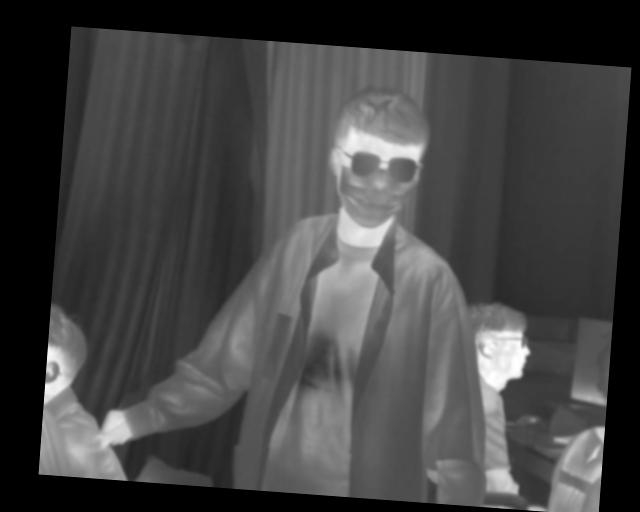face: (327, 82, 433, 230)
